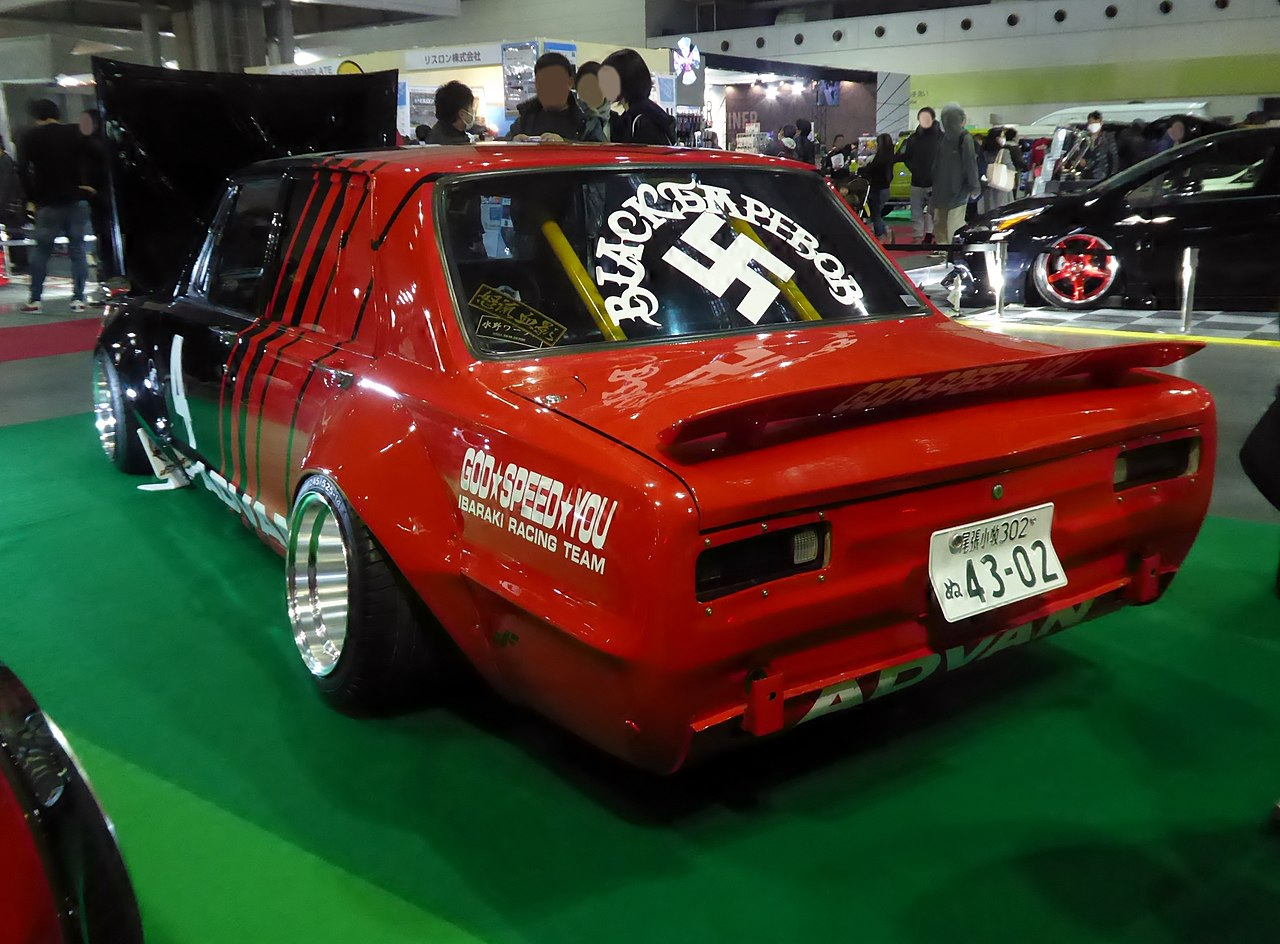plate: (927, 501, 1069, 625)
